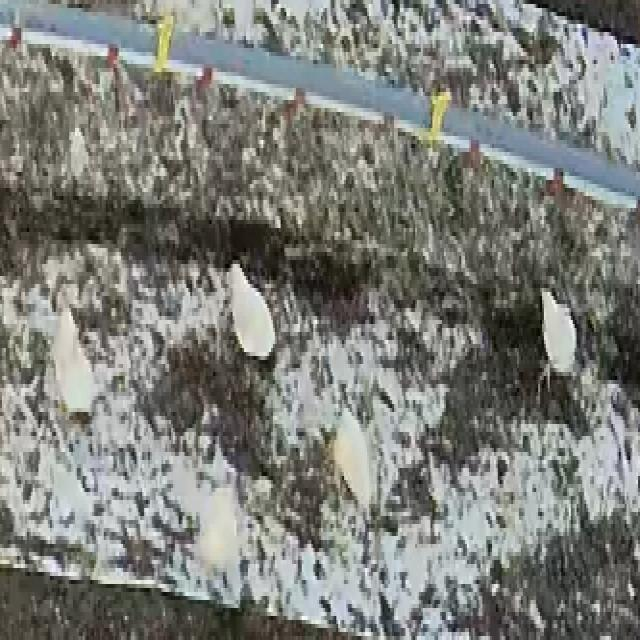broiler: (227, 264, 275, 356)
pipe: (171, 36, 427, 124), (446, 104, 638, 200), (0, 0, 152, 60)
